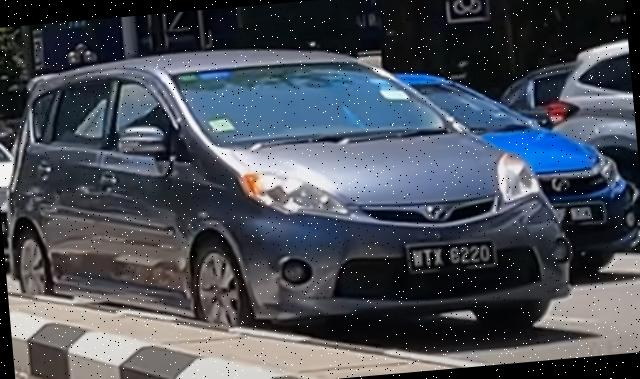License_Plate: (404, 236, 498, 276)
car: (1, 18, 580, 373)
